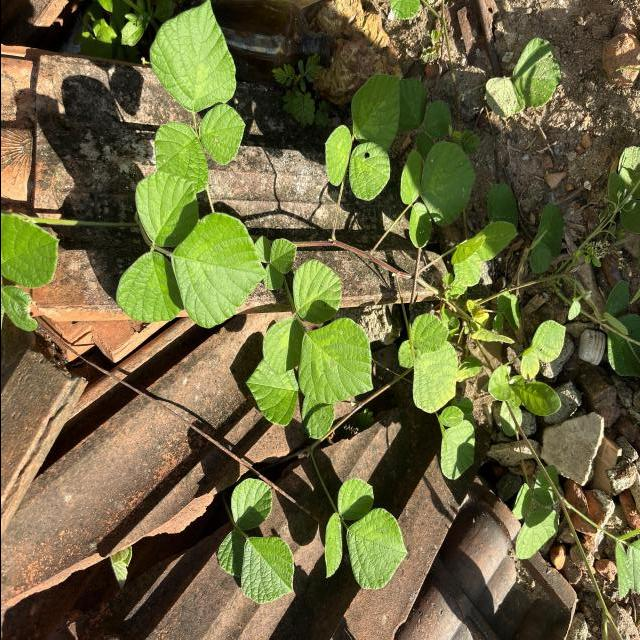Pseudarthria viscida: (113, 170, 266, 334), (147, 0, 246, 192), (260, 257, 374, 407), (322, 71, 400, 204), (216, 478, 294, 606), (323, 477, 408, 590), (398, 140, 476, 250), (396, 310, 460, 416)
